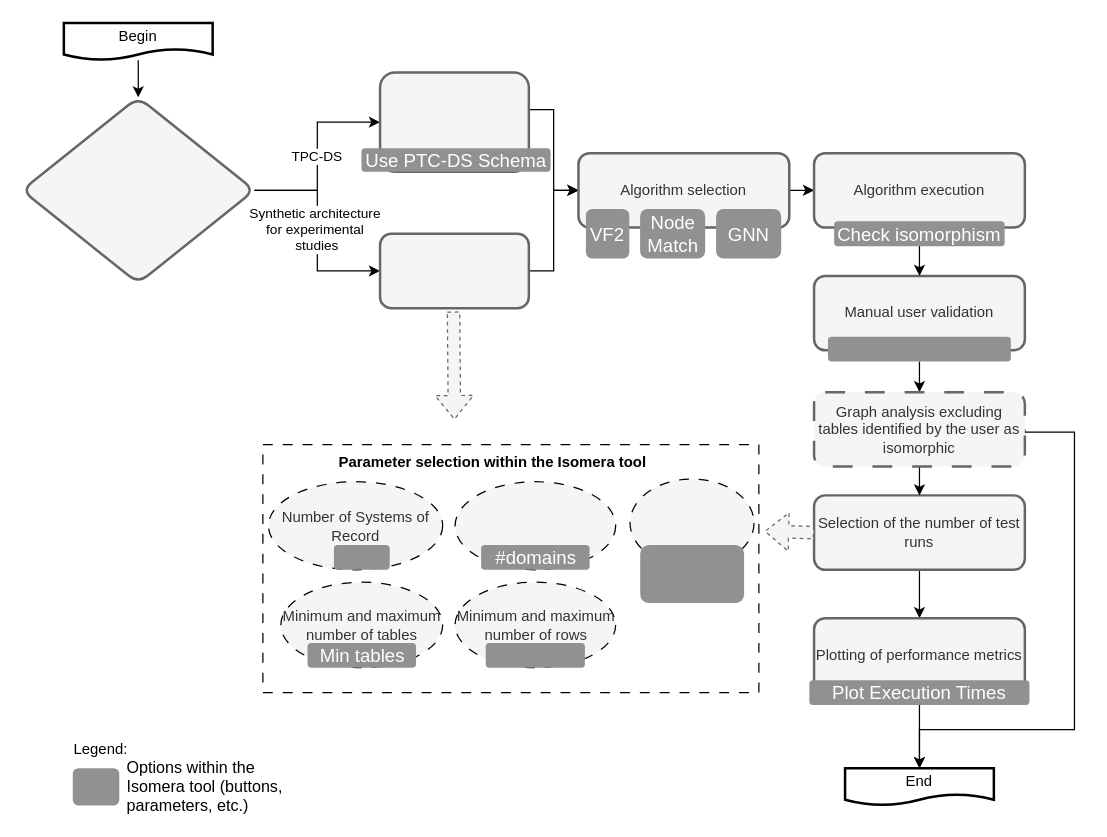
This 1107x837 diagram has some shape labels left out. Here are the shapes that lost their labels. From the top down, the box of each, then its label:
(378, 71, 529, 172): Graph generation
(20, 95, 255, 284): Selection of the model to be studied
(378, 232, 529, 309): Parameter definition
(827, 336, 1010, 361): Remove isomorphism
(454, 480, 616, 570): Quantidade de domínios
(629, 478, 754, 567): Number of domains
(333, 544, 389, 569): #SOR
(640, 544, 744, 602): Number of Execution
(485, 642, 584, 667): Max tables
